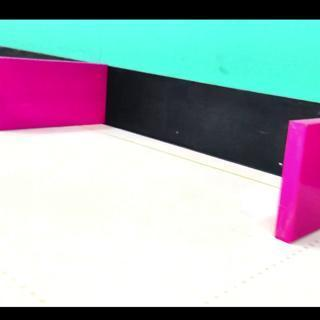xparking: (2, 66, 100, 131), (289, 127, 317, 235)
